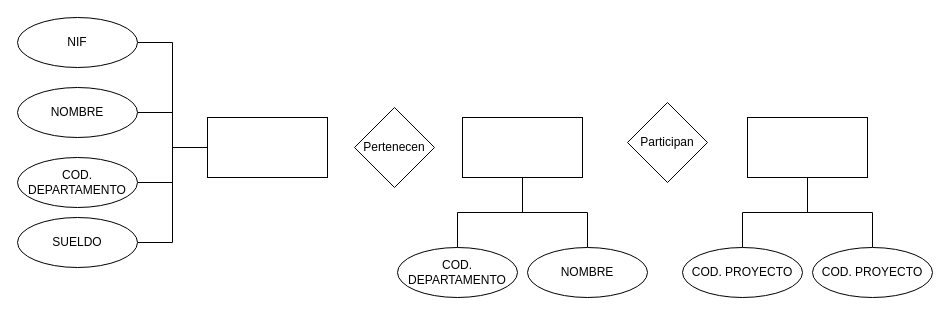
This 950x315 diagram has some shape labels left out. The box of each missing label's shape, as (x1, y1, x2, y2) in pixels:
DEPARTAMENTOS: (462, 116, 582, 178)
EMPLEADOS: (206, 116, 328, 178)
PROYECTOS: (746, 116, 868, 178)
